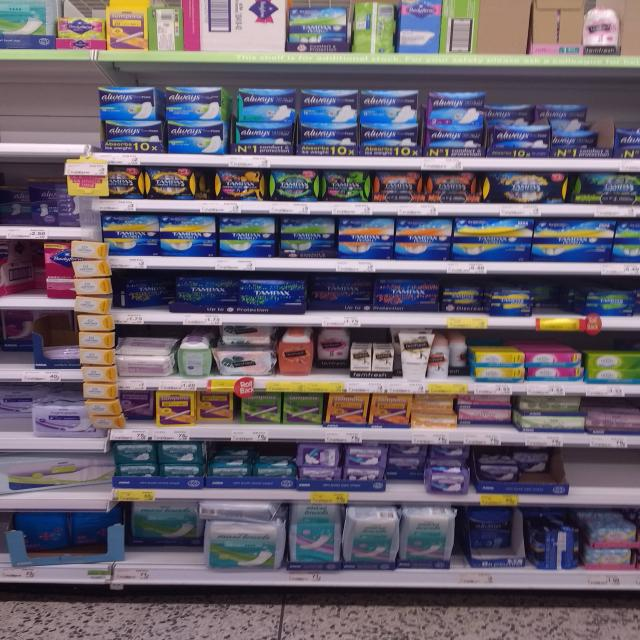empty: (5, 69, 102, 156), (572, 440, 636, 501)
